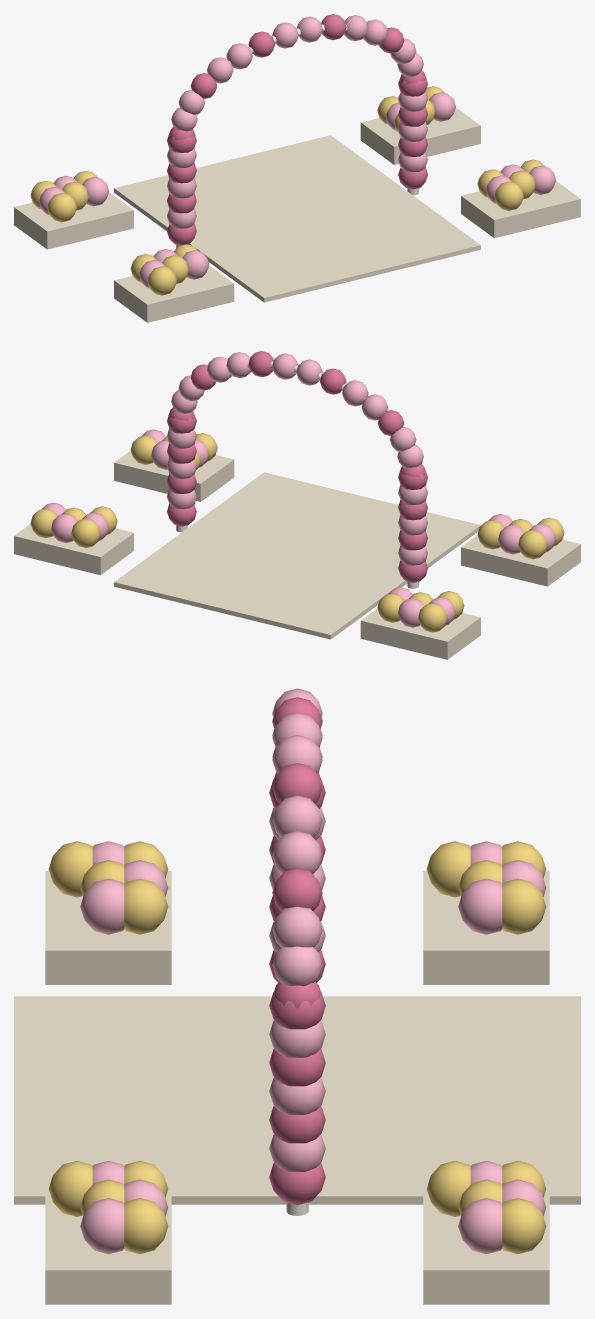
Rendered from flower-garden.glb.
The picture shows the model from 3 angles, top to bottom: view 1: azimuth 30°, elevation 25°; view 2: azimuth 150°, elevation 25°; view 3: azimuth 270°, elevation 25°; orthographic projection. The views are drawn at different scales.
Size of the model in its own units: 3 by 1.33 by 1.8.
